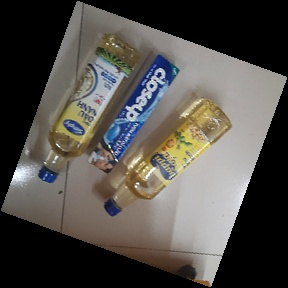CloseUp Tuyet: (87, 53, 180, 177)
Happy Soya: (103, 97, 233, 217)
Simply: (37, 32, 140, 183)
